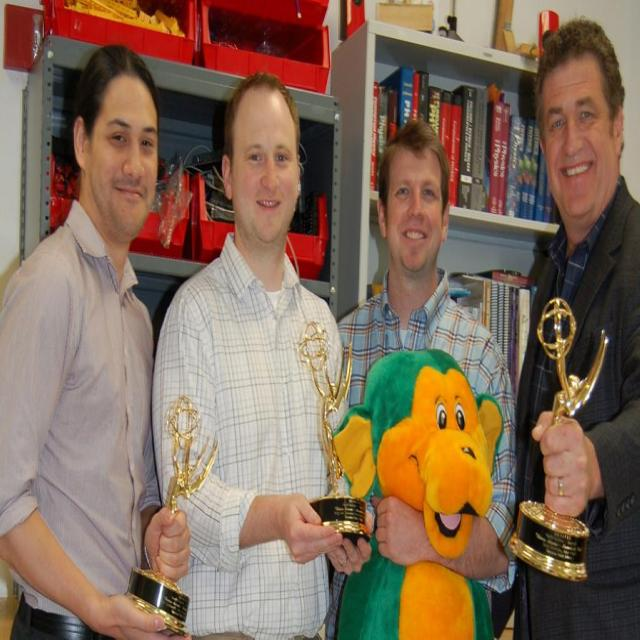Face: (531, 45, 626, 242), (228, 73, 316, 245), (84, 77, 168, 242), (380, 131, 457, 285)
